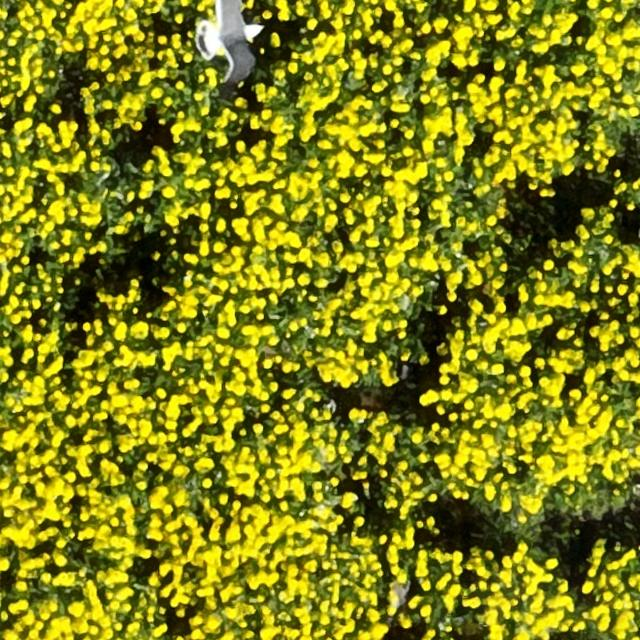F: (205, 0, 262, 83)
